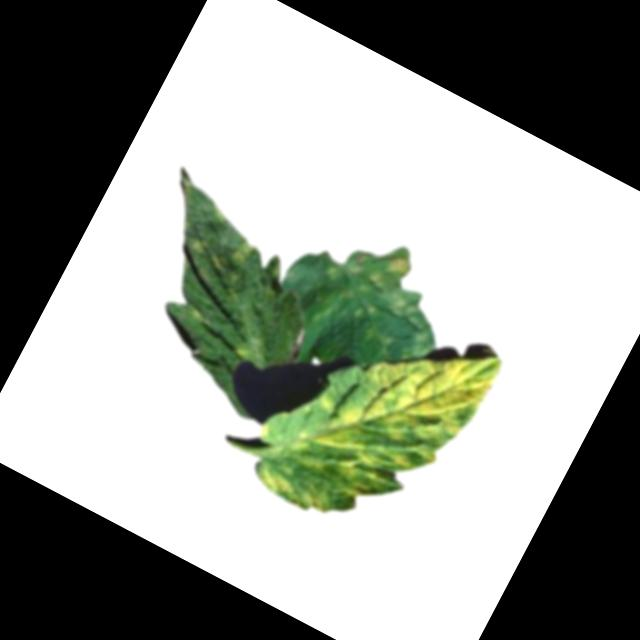Leaf_Mold: (237, 278, 507, 562), (334, 232, 440, 324), (179, 229, 220, 265), (227, 232, 260, 268)
